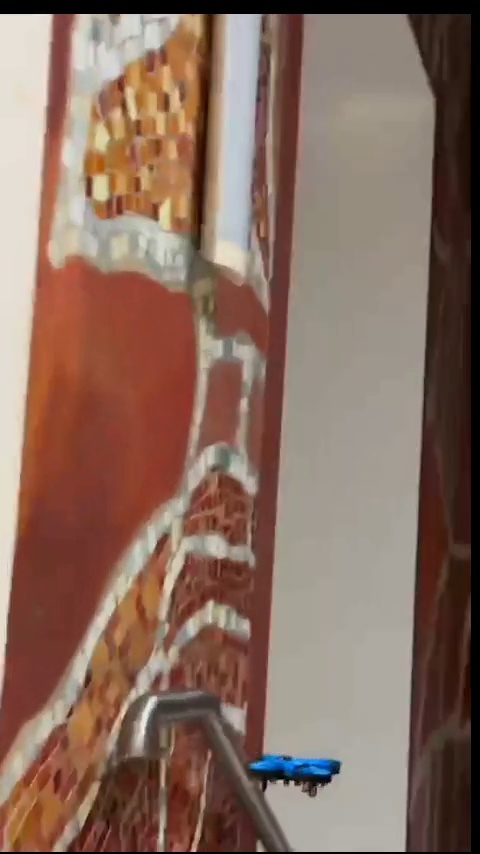drone: (248, 755, 337, 790)
